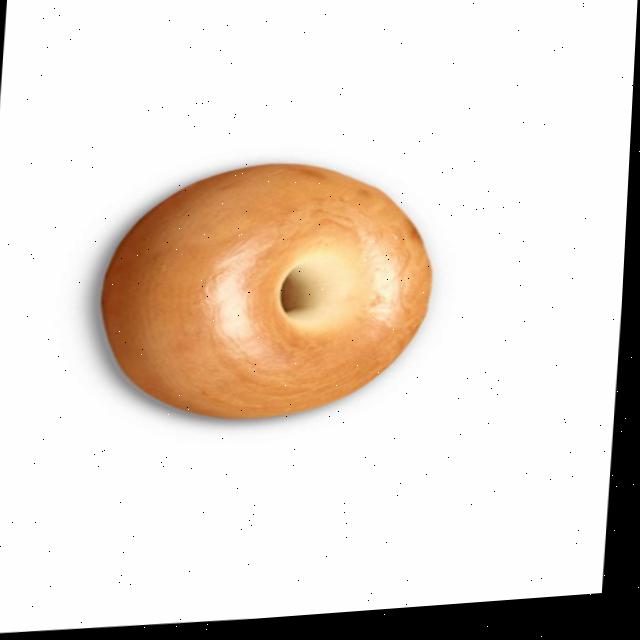Bagel: (105, 168, 434, 423)
